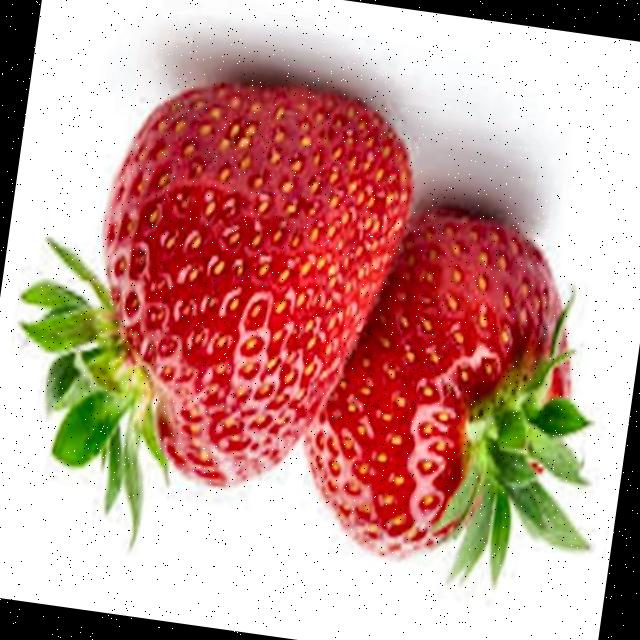strawberry: (23, 82, 412, 538), (306, 208, 587, 580)
